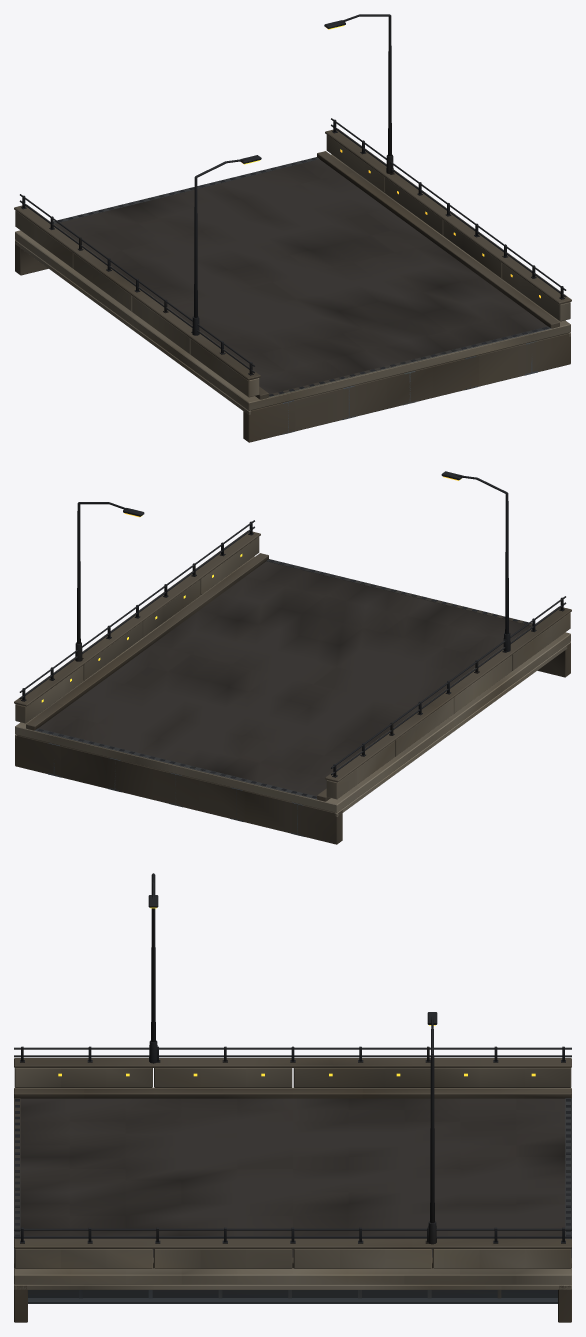
Rendered from bridge_span_20m.glb.
3 renders of one model, top to bottom at view 1: azimuth 30°, elevation 25°; view 2: azimuth 150°, elevation 25°; view 3: azimuth 270°, elevation 25°, orthographic. The views are drawn at different scales.
Parts seen in each view (by area): view 1: road_surface, concrete_dark, concrete, metal_dark, metal_bare; view 2: road_surface, concrete_dark, concrete, metal_dark, metal_bare; view 3: road_surface, concrete, concrete_dark, metal_dark, steel_beam, metal_bare.
Boxes of the visible parts, box(x1,y1,x2,y2) form: road_surface: box(54, 159, 547, 394); concrete_dark: box(14, 128, 571, 442); concrete: box(15, 135, 570, 414); metal_dark: box(19, 14, 566, 396); metal_bare: box(53, 157, 551, 397); road_surface: box(38, 561, 531, 796); concrete_dark: box(14, 530, 571, 844); concrete: box(15, 537, 570, 816); metal_dark: box(19, 471, 566, 798); metal_bare: box(34, 559, 532, 799); road_surface: box(20, 1098, 565, 1257); concrete: box(14, 1068, 571, 1289); concrete_dark: box(14, 1058, 571, 1322); metal_dark: box(14, 873, 571, 1244); steel_beam: box(28, 1290, 557, 1303); metal_bare: box(14, 1098, 571, 1257).
Size of what is drawn, in the model's own units: 16 by 10.84 by 20.
